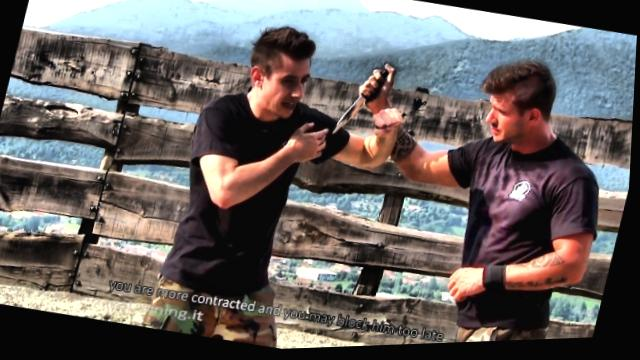knife: (330, 55, 401, 148)
